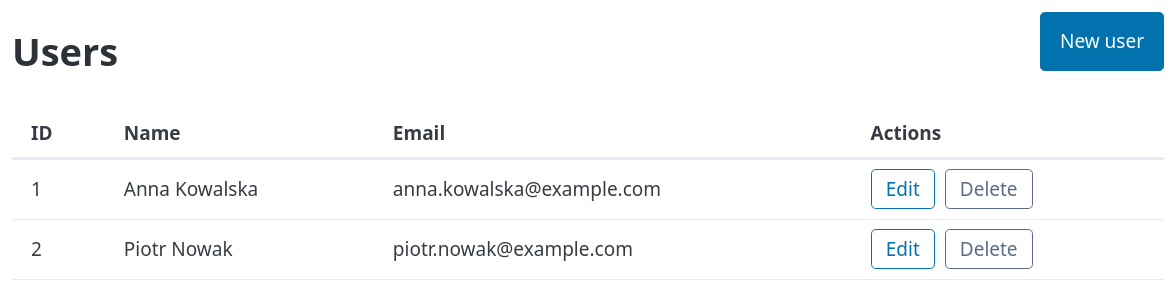
Test: UsersPage › deletes a user after confirmation
The image size is (1176, 297).
Check: the text "Anna Kowalska" is shown, box [105,158,374,219]
Click the button with aria-label "Delete Anna Kowalska".
click(989, 189)  # box [944,169,1033,209]
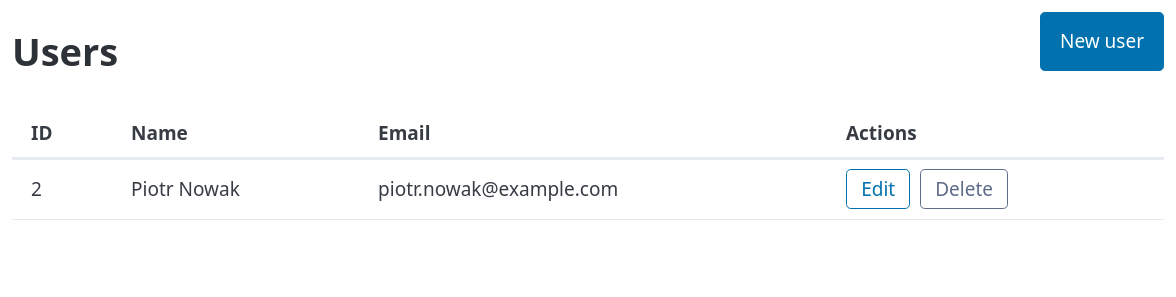
Check: the text "Piotr Nowak" is shown, box [112,158,359,219]
Check: the text "Anna Kowalska" is gone
